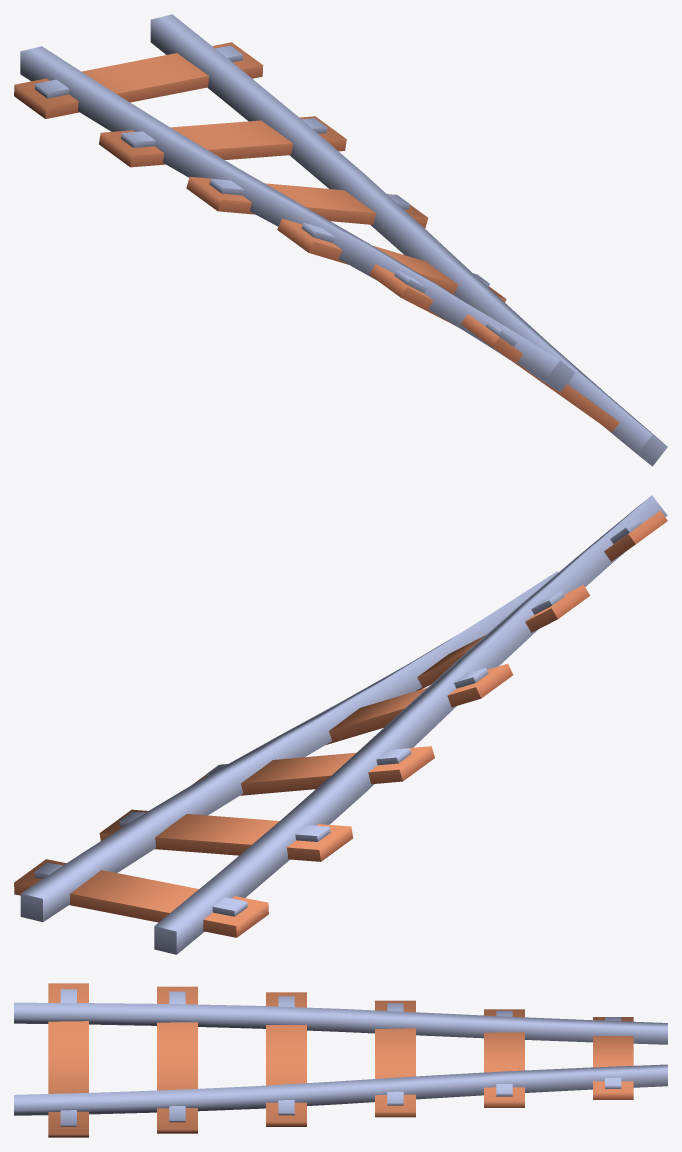
Rendered from kenney-train-railroad-straight-skew-left.glb.
3 renders of one model, top to bottom at view 1: azimuth 30°, elevation 25°; view 2: azimuth 150°, elevation 25°; view 3: azimuth 270°, elevation 25°, orthographic. The views are drawn at different scales.
Visible parts, largest first — view 1: railroad-straight-skew-left; view 2: railroad-straight-skew-left; view 3: railroad-straight-skew-left.
Part boxes in pixels (x1,y1,x2,y2): railroad-straight-skew-left: [14, 14, 667, 466]; railroad-straight-skew-left: [14, 495, 667, 954]; railroad-straight-skew-left: [14, 983, 667, 1137].
Size of the model in its own units: 1 by 0.7105 by 4.
Materials: 1 (1 with a texture image).
